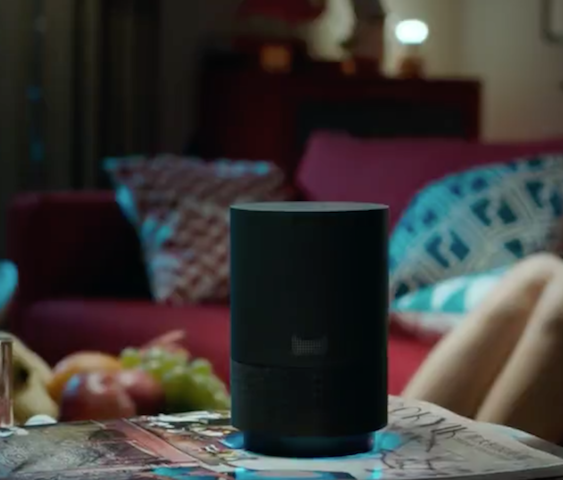audio: (218, 193, 410, 466)
